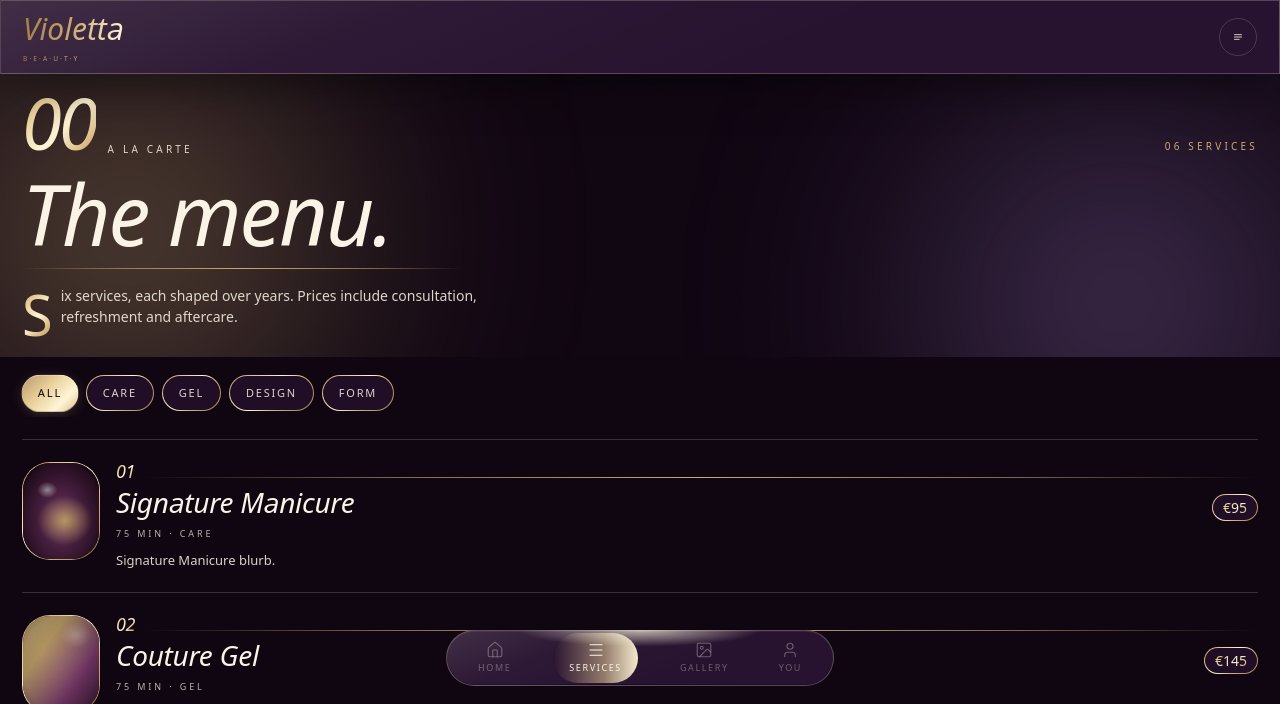
Test case: ServicesCatalogPage › filters down to a single category when a chip is clicked
Step 1. Click the tab "Gel" → coordinates (191, 393), box 162,375 -> 221,411
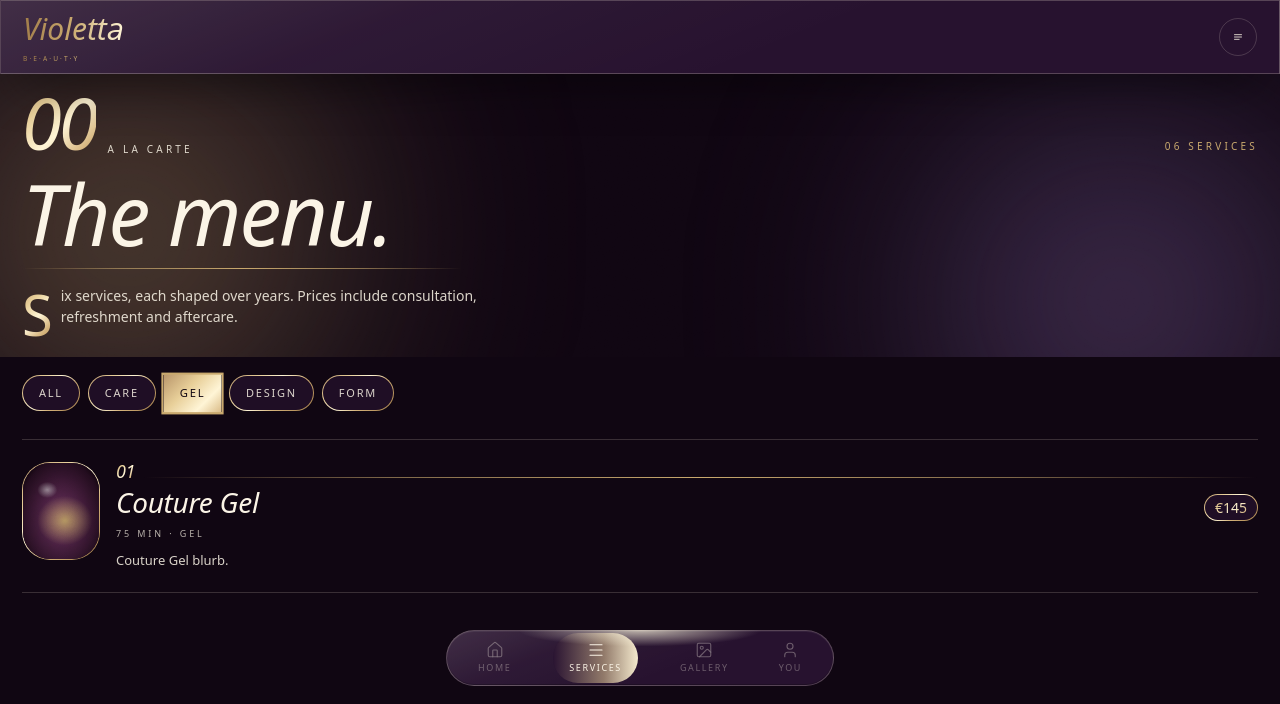
Result: the headings read "Couture Gel", in this order at 116,488 -> 259,518
